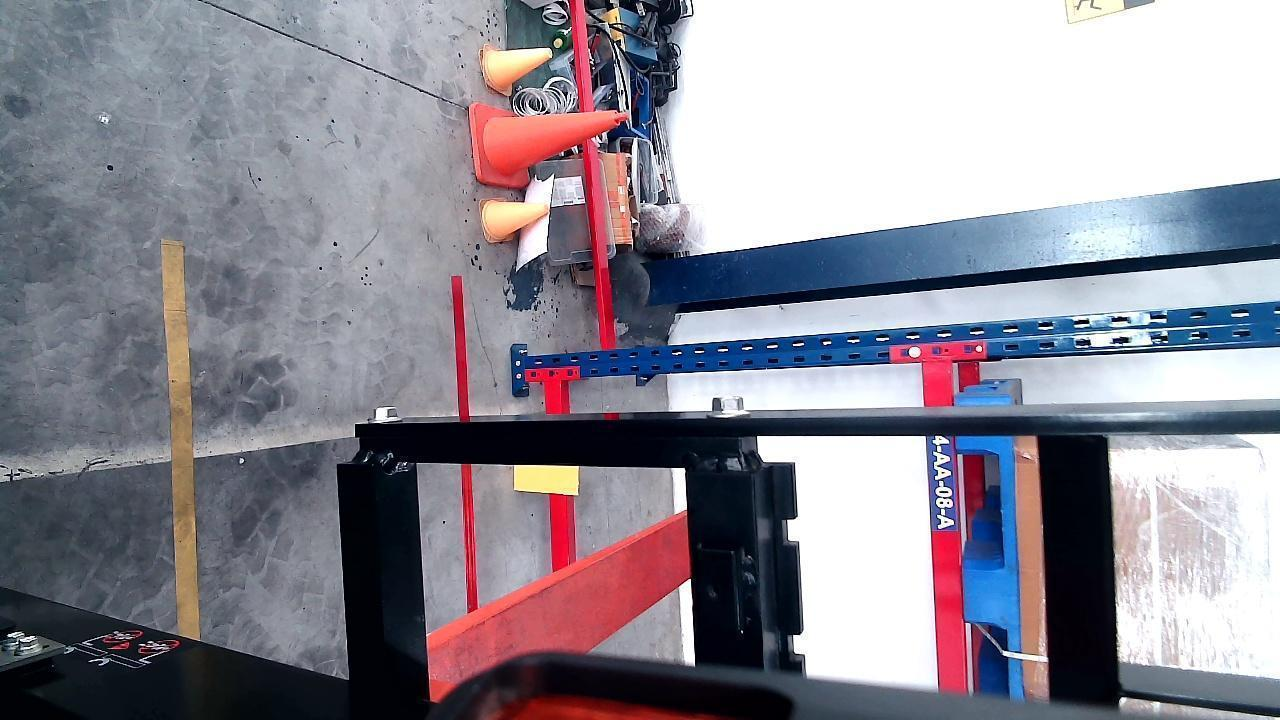red_line: (445, 268, 478, 615)
yellow_line: (161, 238, 200, 640)
